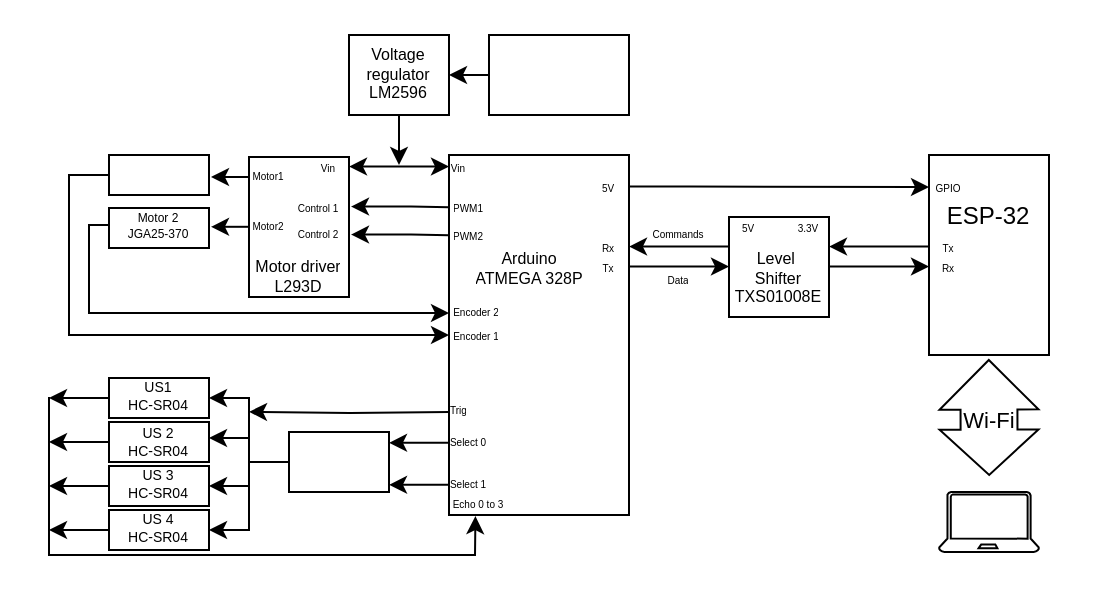
Image size: 1104x606. Some labels were removed from this diagram. Each missing label, with the centre of its shape:
"11.1V batteries" goes at [558,74].
"Motor 1 JGA25-370" goes at [158,174].
"Multiplexer CD74HC4067" goes at [338,461].
